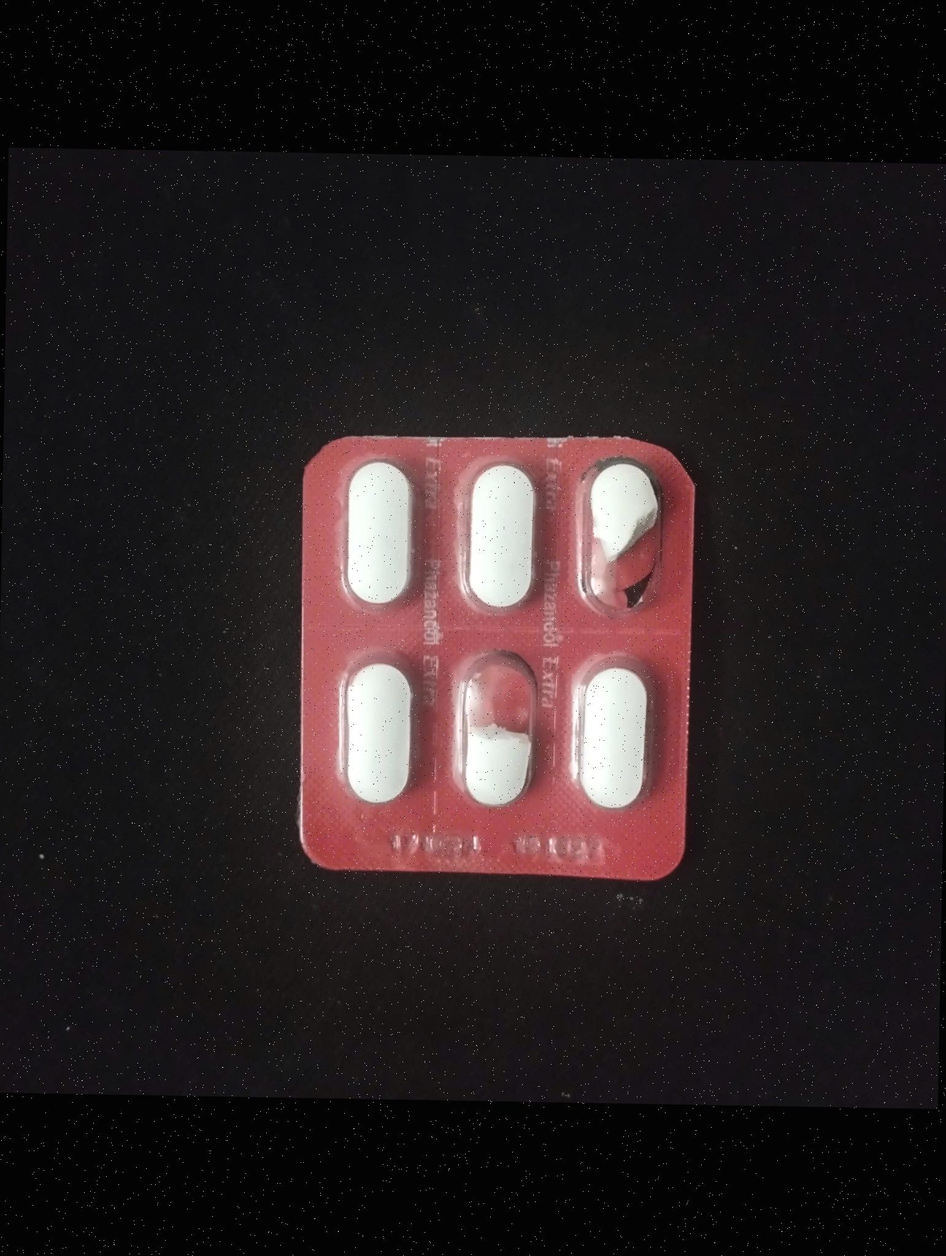Full: (568, 648, 657, 817), (340, 450, 423, 617), (338, 657, 423, 816), (462, 457, 539, 616)
Partial: (455, 643, 544, 819), (577, 449, 661, 615)
